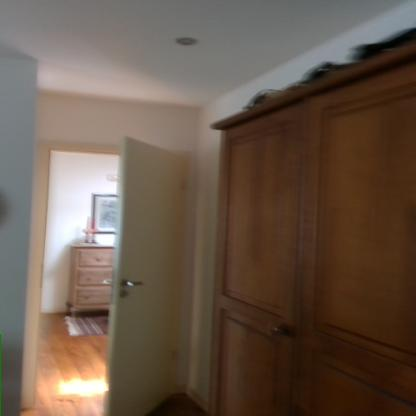semi: (22, 126, 204, 414)
